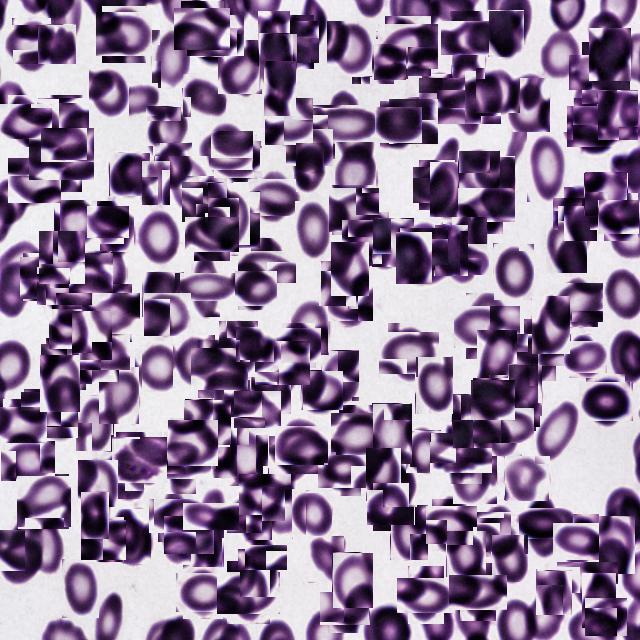red blood cell: (190, 186, 256, 252), (535, 398, 581, 464), (318, 98, 372, 152), (460, 300, 514, 354), (34, 132, 88, 186), (222, 566, 275, 619), (17, 475, 70, 528), (527, 132, 567, 202), (382, 19, 434, 72), (327, 22, 376, 78), (336, 142, 378, 207), (383, 328, 435, 380), (436, 427, 488, 479), (73, 325, 125, 376), (487, 378, 538, 430), (224, 426, 268, 486), (208, 183, 250, 245), (0, 523, 48, 577), (335, 409, 386, 459), (38, 230, 85, 284), (38, 96, 88, 146), (191, 10, 241, 60), (99, 10, 149, 60), (10, 156, 60, 206), (86, 288, 136, 338), (194, 344, 244, 394), (257, 338, 307, 388), (178, 4, 228, 54), (570, 101, 620, 150), (372, 403, 412, 464), (477, 330, 517, 391), (134, 340, 180, 392), (218, 40, 262, 94), (453, 450, 497, 504), (507, 77, 550, 132), (472, 156, 515, 211), (136, 211, 178, 267), (268, 18, 317, 66), (575, 49, 624, 97), (493, 243, 534, 300), (265, 97, 313, 145), (390, 98, 438, 146), (202, 126, 250, 174), (169, 420, 217, 468), (454, 568, 502, 616), (151, 29, 190, 88), (332, 552, 373, 608), (99, 367, 139, 424), (218, 320, 258, 377), (40, 355, 80, 412), (351, 31, 394, 84), (452, 394, 494, 448), (180, 568, 227, 616), (518, 499, 566, 546), (4, 438, 52, 485), (331, 186, 378, 234), (516, 327, 564, 374), (156, 439, 204, 486), (480, 402, 528, 449), (168, 156, 209, 211), (173, 335, 215, 388), (589, 28, 631, 81), (582, 378, 629, 425), (41, 263, 88, 310), (241, 471, 288, 518), (402, 572, 450, 618), (98, 451, 144, 499), (564, 554, 612, 600), (416, 356, 454, 414), (532, 296, 570, 354), (25, 518, 64, 574), (62, 559, 99, 618), (295, 201, 332, 260), (598, 515, 635, 574), (557, 519, 604, 565), (184, 399, 230, 446), (540, 28, 580, 82), (546, 221, 587, 273), (76, 395, 114, 451), (390, 504, 428, 560), (259, 33, 297, 89), (252, 174, 298, 220), (428, 502, 474, 548), (44, 341, 90, 387), (8, 22, 54, 68), (184, 179, 230, 225), (22, 254, 68, 300), (463, 182, 509, 228), (279, 422, 325, 468), (262, 487, 306, 535), (213, 360, 250, 417), (146, 106, 188, 156), (292, 300, 330, 355), (430, 162, 468, 217), (272, 433, 318, 478), (230, 491, 276, 536), (245, 244, 290, 290), (347, 216, 392, 262), (54, 199, 97, 247), (372, 218, 414, 267), (331, 242, 369, 296), (597, 90, 638, 140), (114, 509, 151, 564), (478, 510, 523, 555), (183, 264, 228, 309), (504, 456, 550, 500), (168, 512, 212, 558), (458, 150, 500, 198), (292, 489, 332, 539), (464, 70, 501, 124), (154, 493, 198, 538), (146, 292, 190, 337), (476, 68, 520, 113), (72, 311, 112, 360), (527, 585, 563, 639), (321, 350, 359, 401), (240, 546, 278, 597), (321, 448, 365, 492), (556, 280, 600, 324), (182, 73, 226, 117), (4, 99, 48, 143), (50, 307, 94, 351), (420, 76, 464, 120), (445, 16, 489, 60), (45, 123, 89, 167), (190, 212, 234, 256), (558, 192, 602, 236), (142, 271, 184, 317), (89, 69, 129, 117), (251, 366, 291, 414), (0, 402, 43, 446), (402, 225, 446, 268), (584, 173, 628, 216), (86, 251, 128, 296), (446, 530, 486, 577), (78, 460, 118, 507), (396, 232, 432, 284), (190, 512, 224, 567), (582, 573, 616, 628), (366, 448, 401, 501), (217, 138, 260, 181), (82, 518, 125, 561), (203, 424, 237, 478), (442, 85, 484, 128), (200, 200, 242, 243), (237, 388, 279, 431), (472, 379, 514, 422), (109, 152, 150, 196), (451, 216, 487, 266), (154, 142, 192, 189), (104, 83, 158, 116), (491, 534, 528, 582), (508, 364, 542, 416), (434, 224, 468, 276), (288, 127, 330, 169), (324, 588, 366, 630), (416, 164, 458, 206), (377, 104, 419, 146), (70, 252, 112, 294), (190, 495, 232, 537), (370, 486, 412, 528), (258, 11, 290, 66), (264, 61, 296, 116), (308, 536, 344, 583), (488, 10, 524, 57), (330, 282, 370, 324), (302, 370, 344, 410), (320, 260, 356, 306), (536, 570, 572, 616), (589, 12, 624, 59), (586, 596, 627, 636), (406, 430, 444, 473), (558, 206, 590, 257), (601, 197, 640, 238), (37, 24, 76, 64), (446, 240, 486, 279), (236, 269, 275, 308), (280, 326, 318, 366), (451, 36, 485, 79), (566, 338, 604, 376), (40, 400, 78, 438), (23, 390, 61, 428), (244, 538, 282, 576), (100, 210, 134, 252), (89, 204, 127, 241), (296, 143, 324, 192), (383, 467, 417, 507), (236, 327, 274, 362), (81, 492, 109, 539), (141, 160, 170, 205), (373, 46, 407, 80)
ring: (114, 434, 164, 486)
